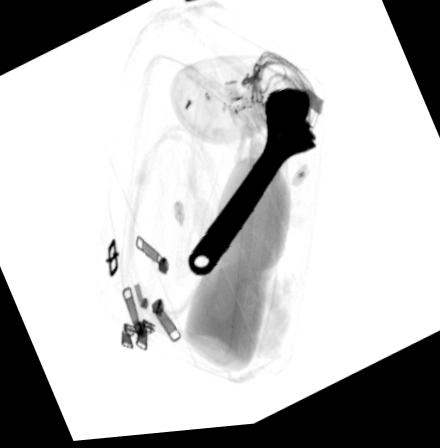Wrench: (186, 93, 318, 284)
